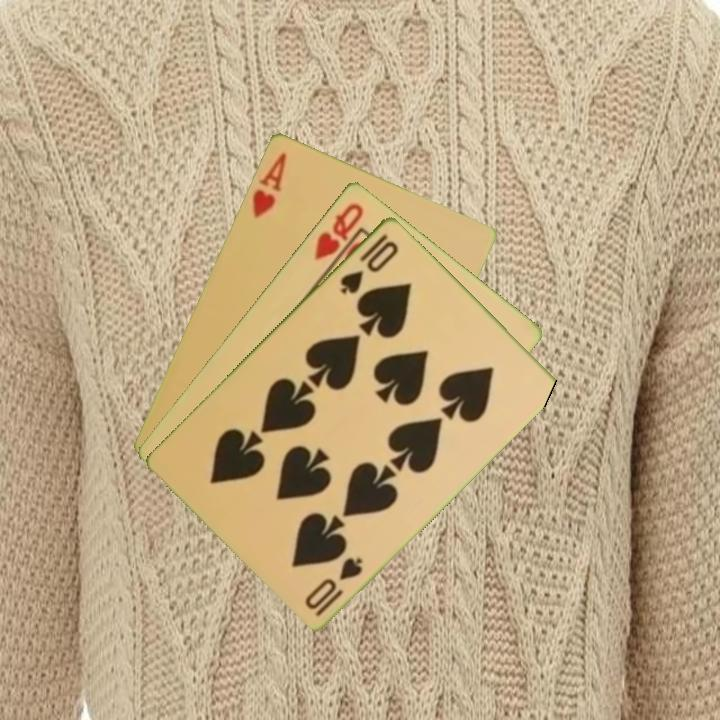10s: (337, 230, 402, 297), (301, 553, 366, 620)
Ah: (248, 148, 290, 221)
Qh: (310, 199, 367, 262)
